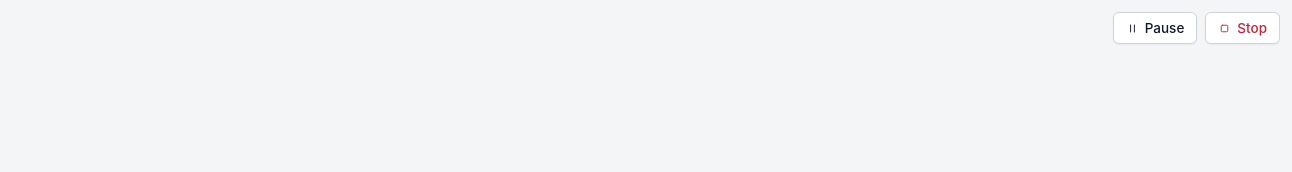
Test case: RunControls › offers pause and stop while running, and asks before stopping
Later steps or results of the test are not shown.
Click the button "Pause" at point(1155, 28), box [1113,12,1197,44]
Click the button "Stop" at point(1243, 28), box [1205,12,1280,44]
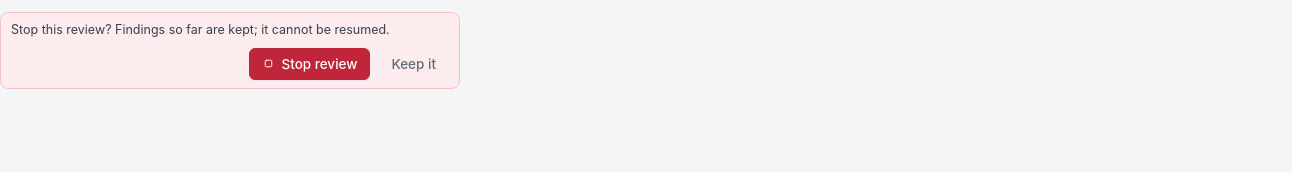
Expected: the text "cannot be resumed" is shown, [11,22,390,37]
